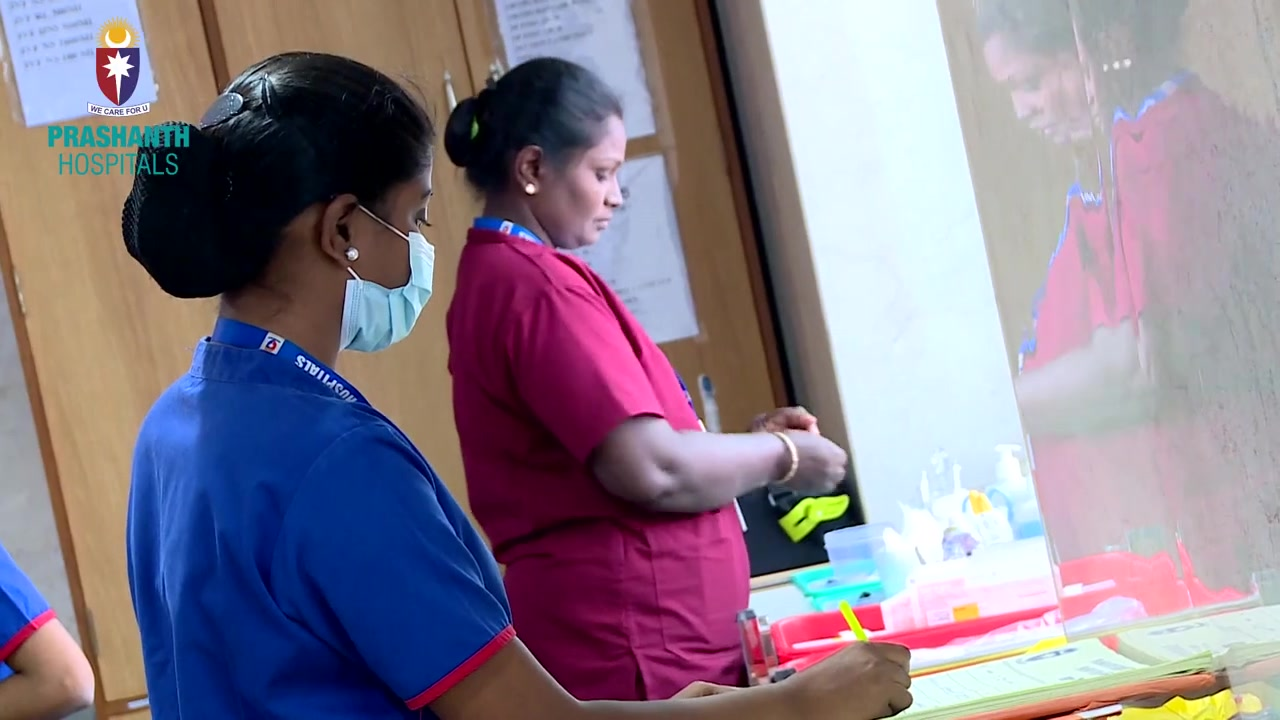dispenser: (984, 443, 1040, 533)
handle: (436, 71, 459, 115)
staff: (119, 50, 912, 720), (444, 58, 848, 699), (1, 546, 98, 720)
